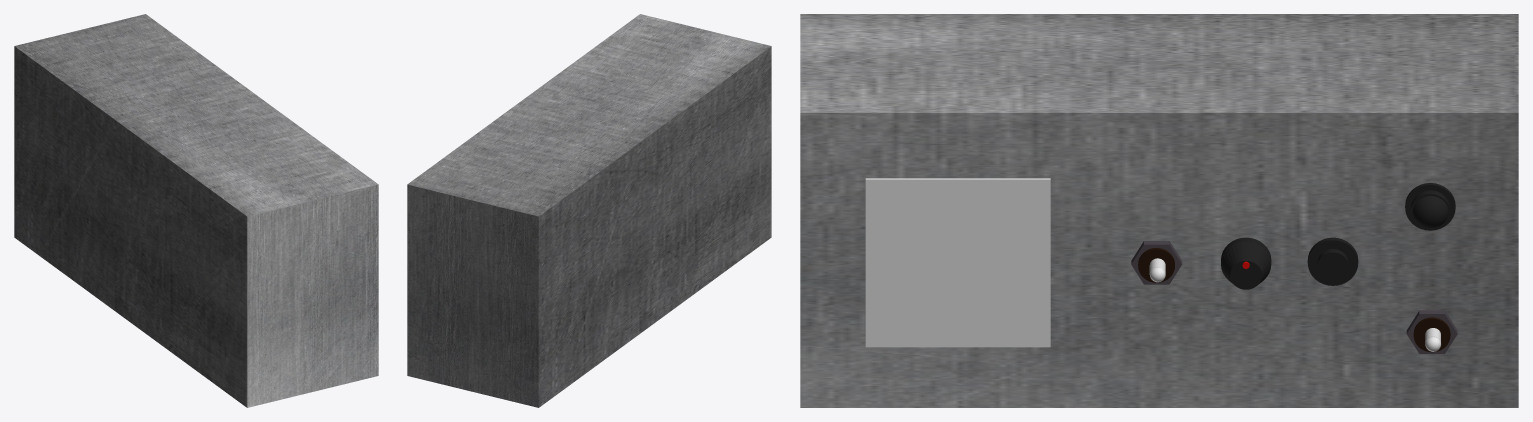
The model's file is коробочка2.fbx.
The picture shows the model from 3 angles, left to right: view 1: azimuth 30°, elevation 25°; view 2: azimuth 150°, elevation 25°; view 3: azimuth 270°, elevation 25°; orthographic projection. The views are drawn at different scales.
Visible parts, largest first — view 1: Cube; view 2: Cube; view 3: Cube, Cube.001, Cylinder.001, Cylinder.002, Sphere, Cylinder.009, Cylinder.010, Cylinder.006, Cylinder.011, Cylinder.007, Cylinder.003.
Part boxes in pixels (<box>): Cube: <box>14,14,378,407</box>; Cube: <box>407,14,771,407</box>; Cube: <box>800,14,1518,407</box>; Cube.001: <box>865,178,1050,347</box>; Cylinder.001: <box>1221,241,1271,289</box>; Cylinder.002: <box>1307,237,1358,285</box>; Sphere: <box>1412,190,1448,228</box>; Cylinder.009: <box>1317,249,1348,280</box>; Cylinder.010: <box>1406,310,1457,353</box>; Cylinder.006: <box>1131,241,1182,284</box>; Cylinder.011: <box>1413,317,1450,352</box>; Cylinder.007: <box>1138,247,1174,282</box>; Cylinder.003: <box>1405,183,1455,230</box>.
Bounding box in the file's own units: 110 × 130 × 287.
